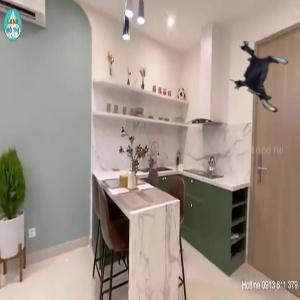drone: (226, 43, 295, 112)
